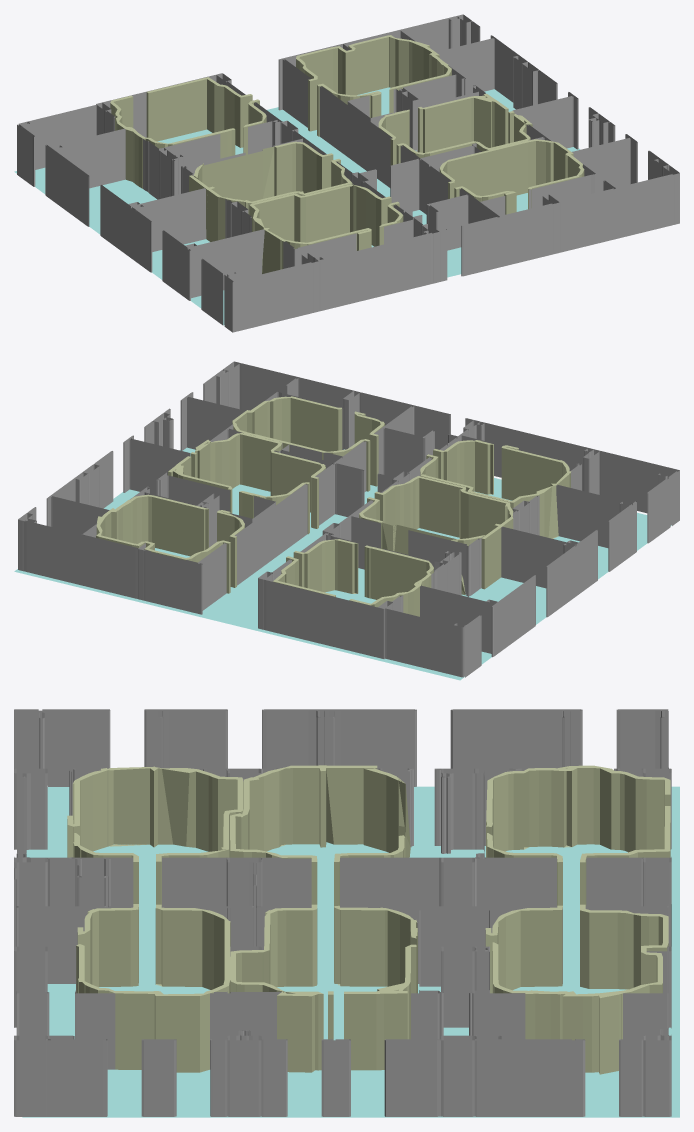
File: Sale Operatorie.glb
3 renders of one model, top to bottom at view 1: azimuth 30°, elevation 25°; view 2: azimuth 150°, elevation 25°; view 3: azimuth 270°, elevation 25°, orthographic. The views are drawn at different scales.
Parts seen in each view (by area): view 1: Muri, Sale, Pavimento; view 2: Muri, Sale, Pavimento; view 3: Muri, Sale, Pavimento.
Boxes of the visible parts, <box> form: Muri: <box>17,14,679,332</box>; Sale: <box>110,35,584,273</box>; Pavimento: <box>14,87,580,325</box>; Muri: <box>18,361,679,677</box>; Sale: <box>96,396,571,616</box>; Pavimento: <box>14,447,671,680</box>; Muri: <box>14,709,671,1116</box>; Sale: <box>67,765,670,1074</box>; Pavimento: <box>22,786,679,1117</box>.
Bounding box in the file's own units: 27.94 × 3 × 23.7.
